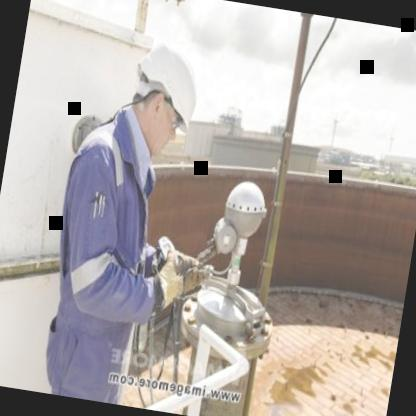helmet: (116, 25, 211, 166)
